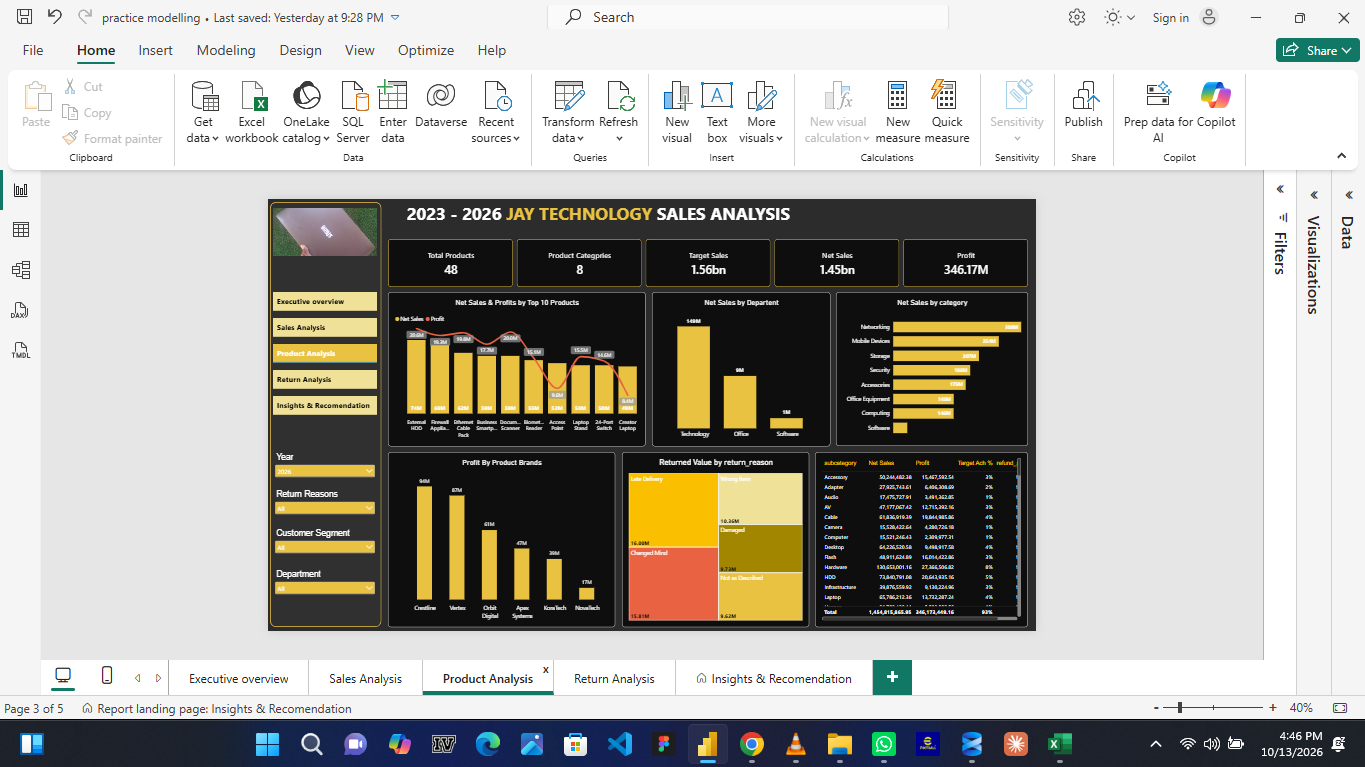

This screenshot's page, from the dashboard's own definition file:
{"tool":"powerbi","page":{"name":"Product  Analysis","canvas":[1920,1080],"ordinal":2},"visuals":[{"type":"shape","box":[4.3,8.6,278.6,1062.7],"z":0},{"type":"textbox","box":[300.2,8.6,1051.9,60.5],"z":1000},{"type":"cardVisual","fields":{"Data":["measure.Total Products","measure.Product Categpries","measure.Target Sales","measure.Net Sales","measure.Profit"]},"box":[300,100,1600,120],"z":2000},{"type":"lineClusteredColumnComboChart","title":"Net Sales & Profits by Top 10 Products","fields":{"Category":["dim_product.product_name"],"Y":["measure.Net Sales"],"Y2":["measure.Profit"]},"box":[300,232,644,386],"z":3000},{"type":"slicer","fields":{"Values":["dim_date.year"]},"box":[12.5,632.5,260,75],"z":4000},{"type":"clusteredBarChart","fields":{"Y":["measure.Net Sales"],"Category":["dim_product.category"]},"box":[1420,232.5,480,385],"z":5000},{"type":"columnChart","title":"Net Sales by Departent","fields":{"Category":["dim_product.department"],"Y":["measure.Net Sales"]},"box":[960,232,446,386],"z":6000},{"type":"treemap","fields":{"Group":["fact_returns.return_reason"],"Values":["measure.Returned Value"]},"box":[884,632,468,438],"z":7000},{"type":"columnChart","title":"Profit By Product Brands","fields":{"Category":["dim_product.brand"],"Y":["measure.Profit"]},"box":[300,632,568,438],"z":8000},{"type":"slicer","fields":{"Values":["fact_returns.return_reason"]},"box":[12.5,725,260,75],"z":9000},{"type":"slicer","fields":{"Values":["dim_customer.customer_segments"]},"box":[12.5,822.5,260,72.5],"z":10000},{"type":"slicer","fields":{"Values":["dim_product.department"]},"box":[12.5,925,260,72.5],"z":11000},{"type":"pageNavigator","box":[12.5,232.5,260,307.5],"z":12000},{"type":"tableEx","fields":{"Values":["dim_product.subcategory","measure.Net Sales","measure.Profit","measure.Target Achievement %","fact_returns.refund_amount"]},"box":[1368,632,532,438],"z":13000},{"type":"image","box":[12.5,22.5,260,120],"z":14000}]}

Visuals, with their boxes on the page's 1920x1080 design canvas (x1, y1, x2, y2). These are canvas units, not pixel positions in the 1365x767 screenshot, which may show the page scaled, cropped or inside an application window:
shape: box=[4, 9, 283, 1071]
textbox: box=[300, 9, 1352, 69]
cardVisual - measure.Total Products x measure.Product Categpries: box=[300, 100, 1900, 220]
"Net Sales & Profits by Top 10 Products" lineClusteredColumnComboChart: box=[300, 232, 944, 618]
slicer - dim_date.year: box=[12, 632, 272, 708]
clusteredBarChart - measure.Net Sales x dim_product.category: box=[1420, 232, 1900, 618]
"Net Sales by Departent" columnChart: box=[960, 232, 1406, 618]
treemap - fact_returns.return_reason x measure.Returned Value: box=[884, 632, 1352, 1070]
"Profit By Product Brands" columnChart: box=[300, 632, 868, 1070]
slicer - fact_returns.return_reason: box=[12, 725, 272, 800]
slicer - dim_customer.customer_segments: box=[12, 822, 272, 895]
slicer - dim_product.department: box=[12, 925, 272, 998]
pageNavigator: box=[12, 232, 272, 540]
tableEx - dim_product.subcategory x measure.Net Sales: box=[1368, 632, 1900, 1070]
image: box=[12, 22, 272, 142]
